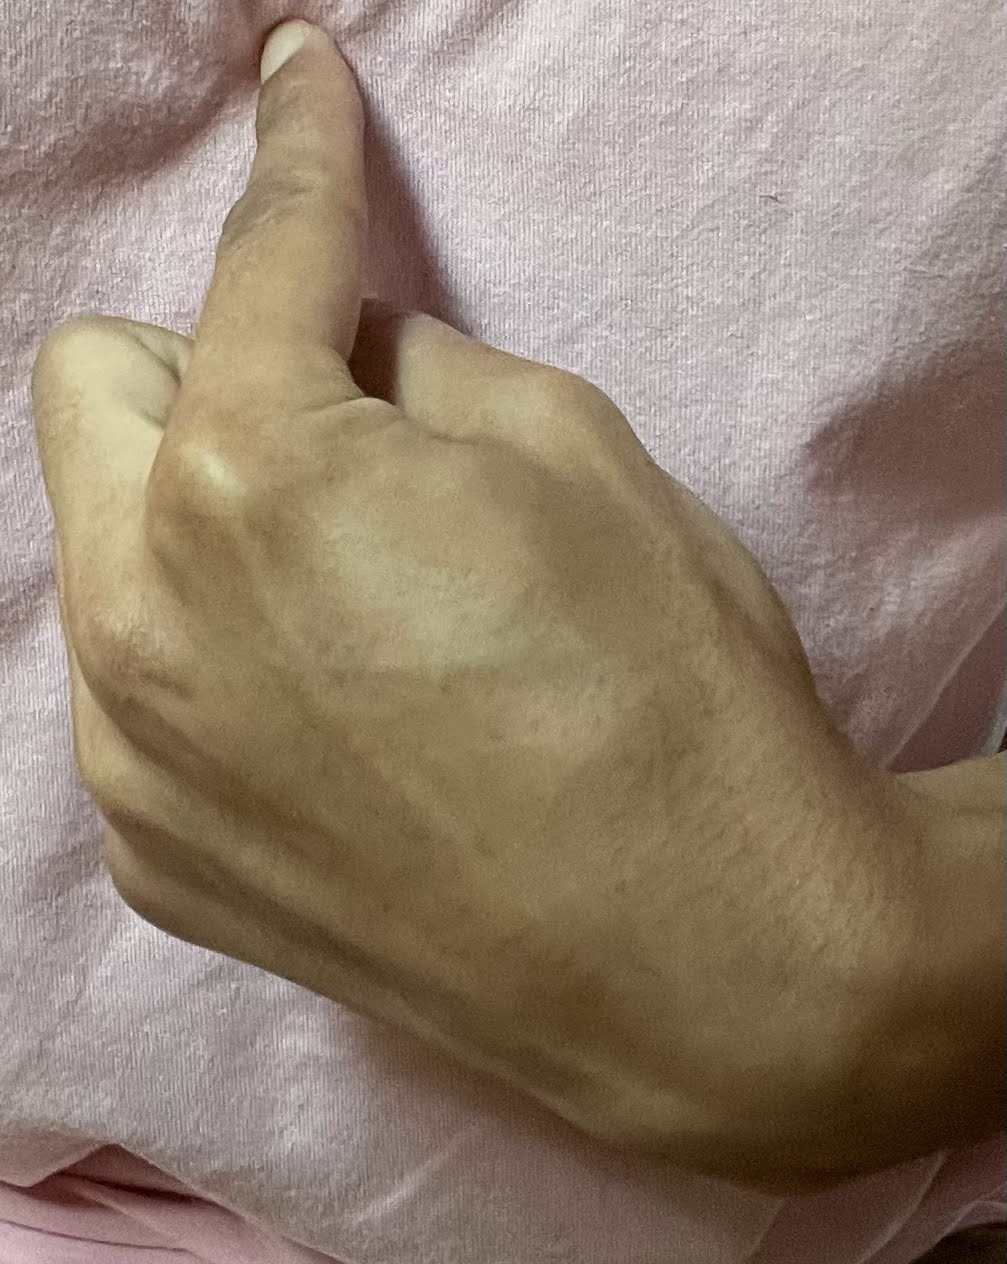I: (29, 16, 932, 1228)
